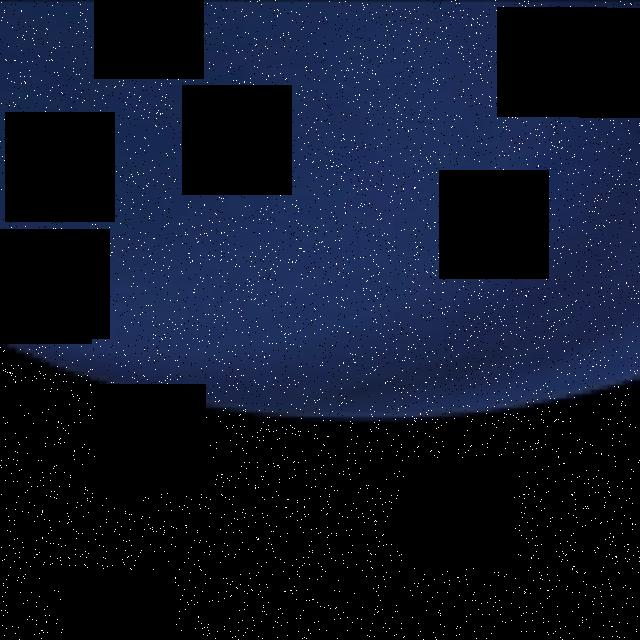Neptune: (0, 1, 640, 420)
